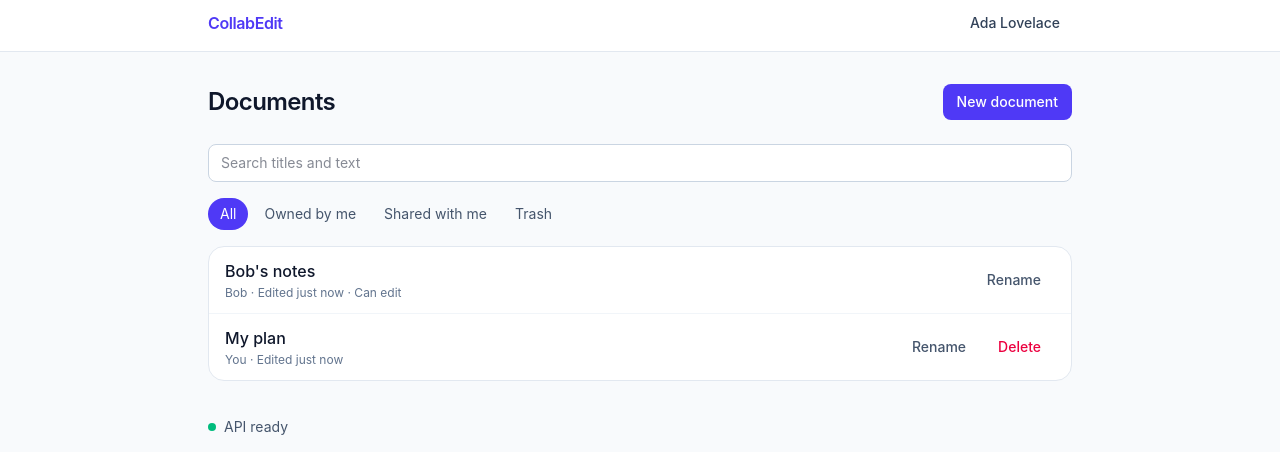
Test: dashboard › filters by view and keeps the view in the URL
The image size is (1280, 452).
Expected: the link "My plan" is shown, [225,328,286,348]
Click the button "Shared with me": (436, 214) [372,198,499,230]
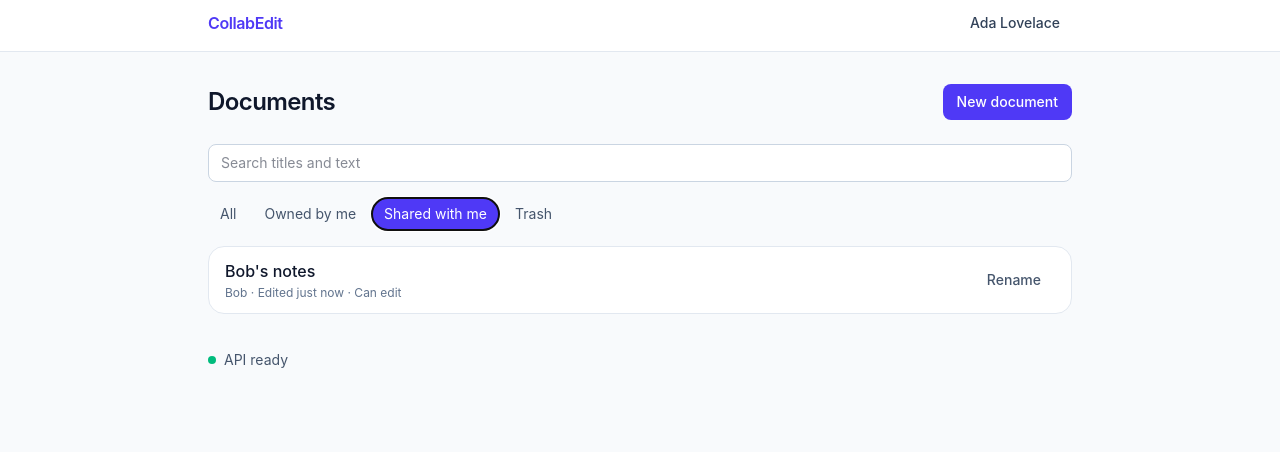
Expected: the link "Bob's notes" is shown, [225,261,315,281]
Result: the link "My plan" is gone
